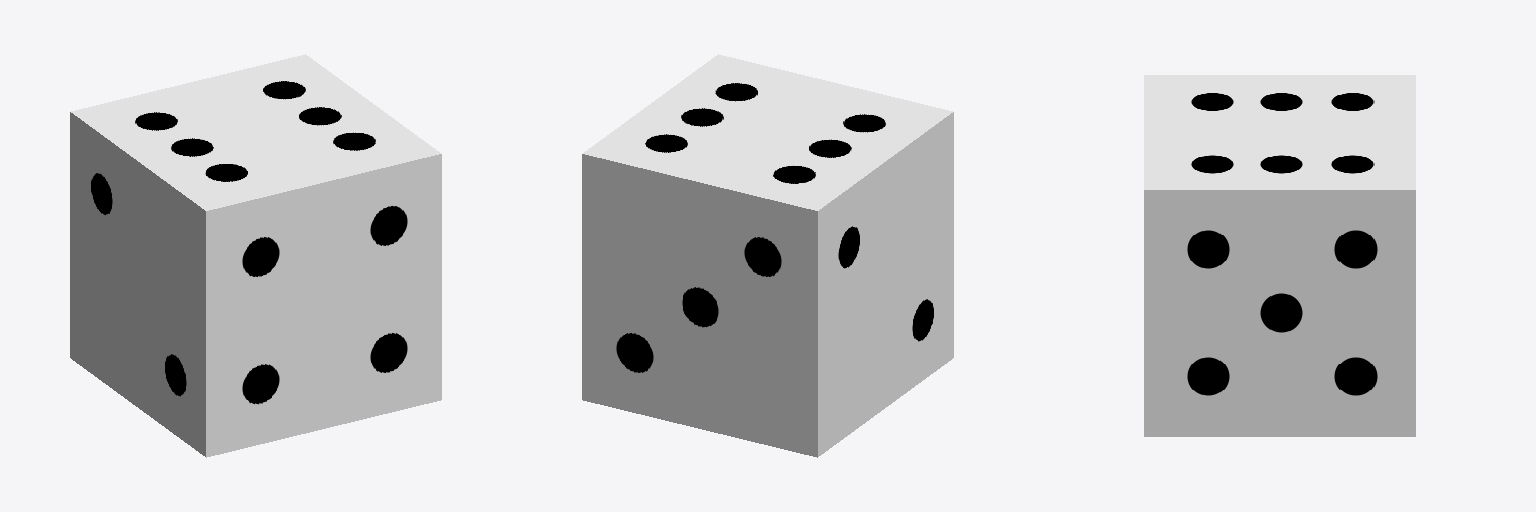
3 renders of one model, left to right at view 1: azimuth 30°, elevation 25°; view 2: azimuth 150°, elevation 25°; view 3: azimuth 270°, elevation 25°, orthographic.
Parts seen in each view (by area): view 1: pCube1; view 2: pCube1; view 3: pCube1.
Boxes of the visible parts, <box> form: pCube1: <box>70,54,441,457</box>; pCube1: <box>582,54,953,457</box>; pCube1: <box>1144,75,1415,436</box>.
Bounding box in the file's own units: 1 × 1 × 1.
Materials: 1 (1 with a texture image).